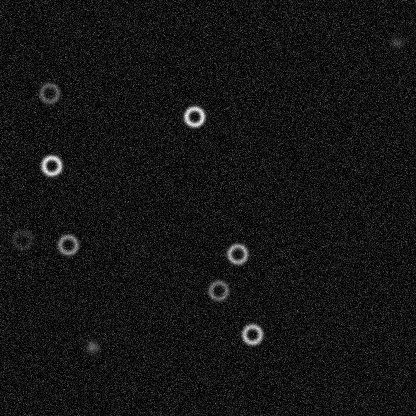Ring: (37, 81, 61, 105), (10, 227, 34, 251), (39, 153, 63, 177), (206, 278, 230, 302), (225, 241, 249, 265), (55, 232, 79, 256), (240, 322, 264, 346), (182, 104, 206, 128)
Spot: (388, 34, 404, 50), (84, 338, 100, 354)
